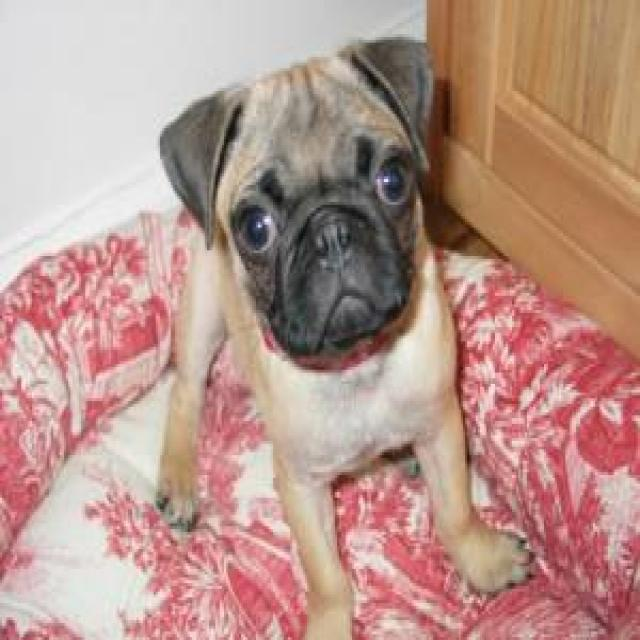dog-pug: (147, 28, 529, 634)
